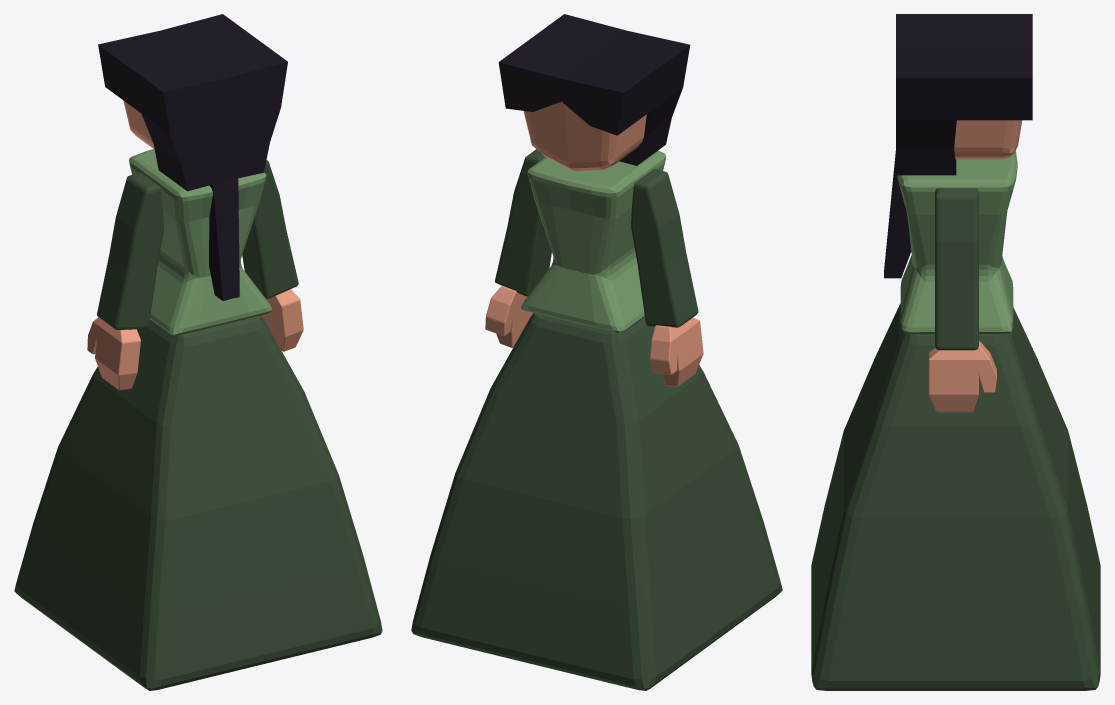
3 views of the same model, side by side, from view 1: azimuth 30°, elevation 25°; view 2: azimuth 150°, elevation 25°; view 3: azimuth 270°, elevation 25° (orthographic). The views are drawn at different scales.
Visible parts, largest first — view 1: E1_Piernas; view 2: E1_Piernas; view 3: E1_Piernas.
Boxes of the visible parts, x1,y1,x2,y2 form: E1_Piernas: (14,14,382,690); E1_Piernas: (411,14,782,690); E1_Piernas: (811,14,1100,690).
Bounding box in the file's own units: 296 × 662 × 296.
